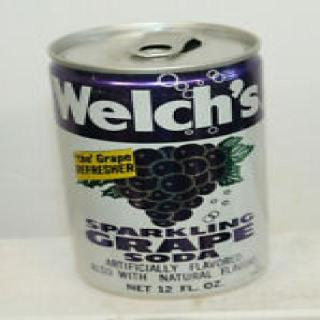Anorganik: (37, 17, 283, 298)
